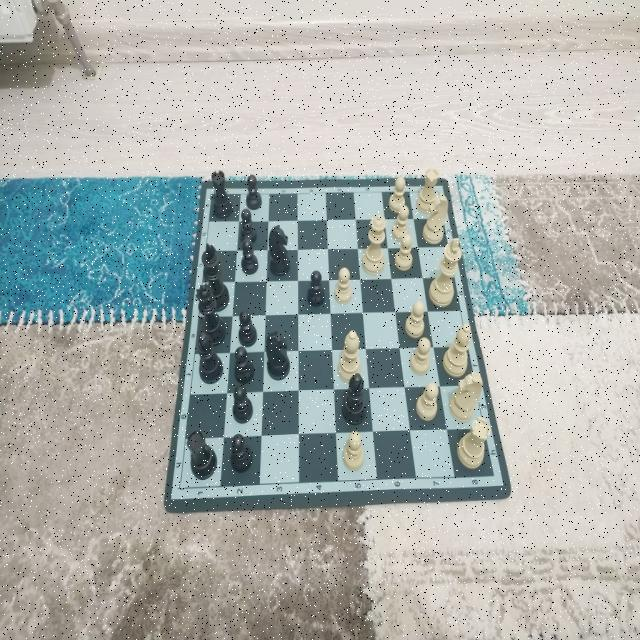corner: (486, 469, 500, 483), (173, 481, 186, 496), (432, 187, 442, 197), (208, 190, 215, 200)
